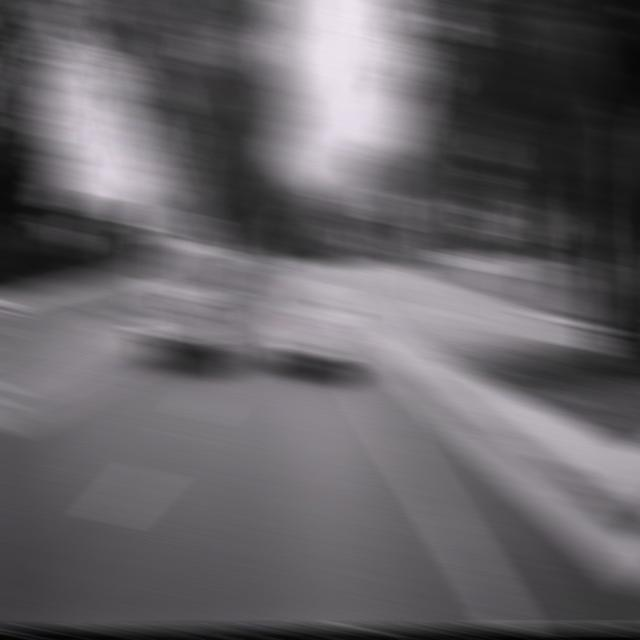speedLimit45: (370, 190, 406, 227), (108, 192, 144, 228)
